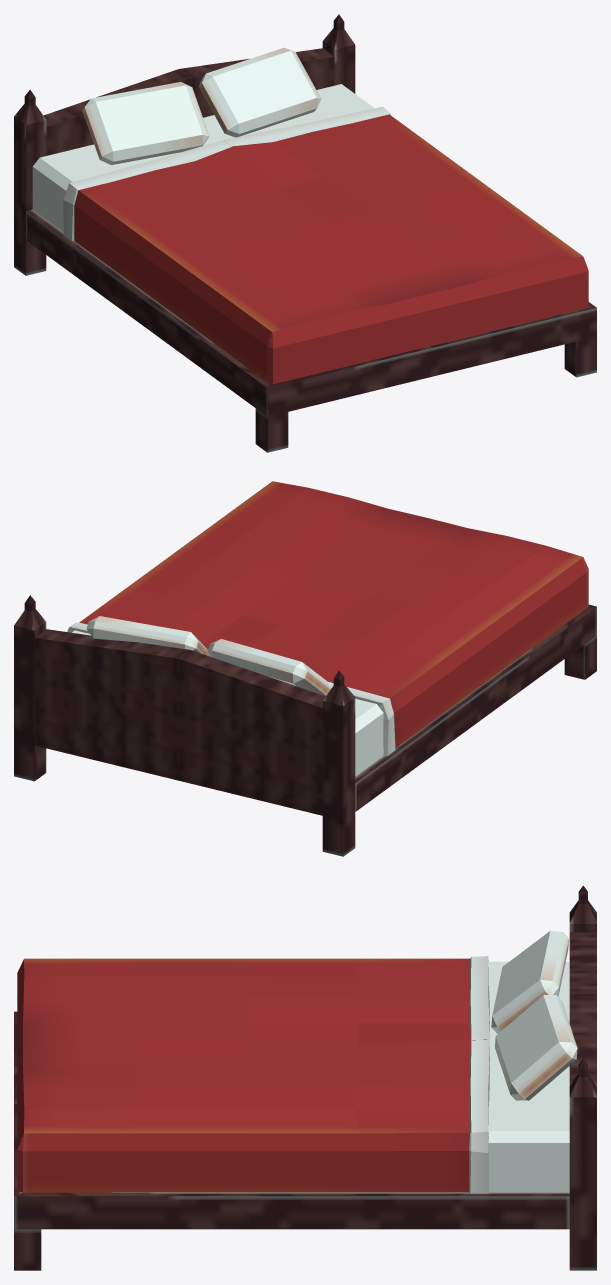
File: Bed.fbx
The picture shows the model from 3 angles, top to bottom: view 1: azimuth 30°, elevation 25°; view 2: azimuth 150°, elevation 25°; view 3: azimuth 270°, elevation 25°; orthographic projection. The views are drawn at different scales.
Visible parts, largest first — view 1: Bed; view 2: Bed; view 3: Bed.
Part boxes in pixels (box(x1,y1,x2,y2)): Bed: box(14, 14, 596, 452); Bed: box(14, 481, 596, 856); Bed: box(14, 885, 596, 1270).
Bounding box in the file's own units: 3 × 4 × 1.56.
